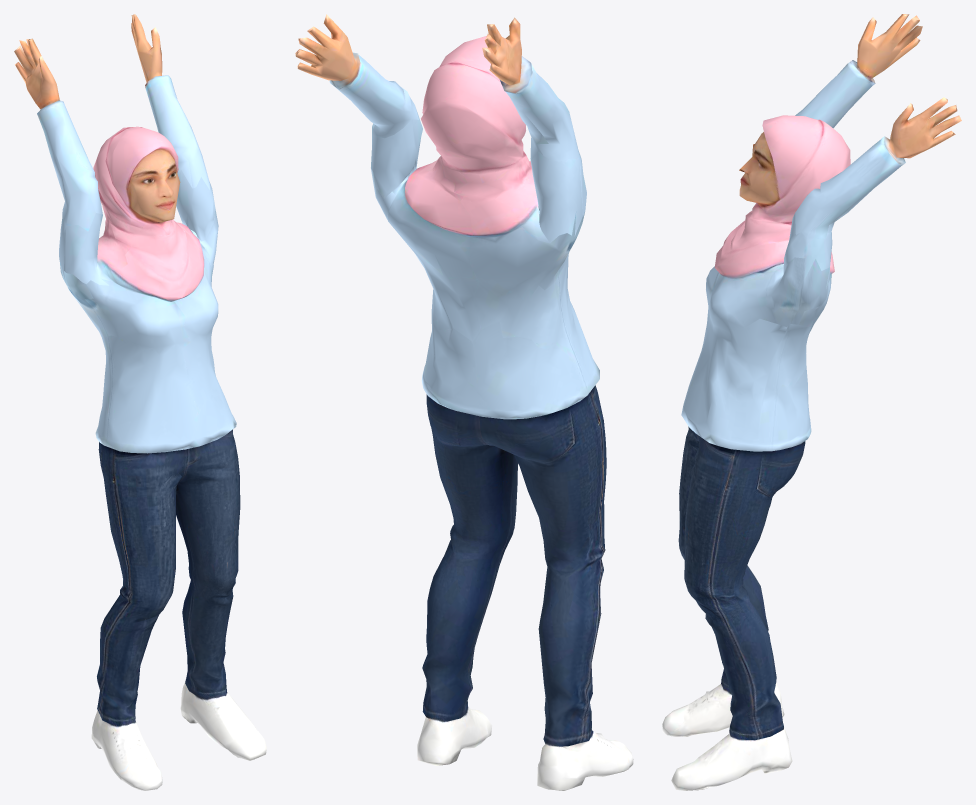
The model's file is fan_tudung_stand.glb.
3 views of the same model, side by side, from view 1: azimuth 30°, elevation 25°; view 2: azimuth 150°, elevation 25°; view 3: azimuth 270°, elevation 25° (orthographic). The views are drawn at different scales.
Visible parts, largest first — view 1: char1; view 2: char1; view 3: char1.
Part boxes in pixels (x1,y1,x2,y2): char1: (14, 14, 266, 790); char1: (295, 14, 633, 790); char1: (662, 14, 961, 790).
Bounding box in the file's own units: 0.4328 × 1.75 × 0.6683.
1 material, 1 textured.
